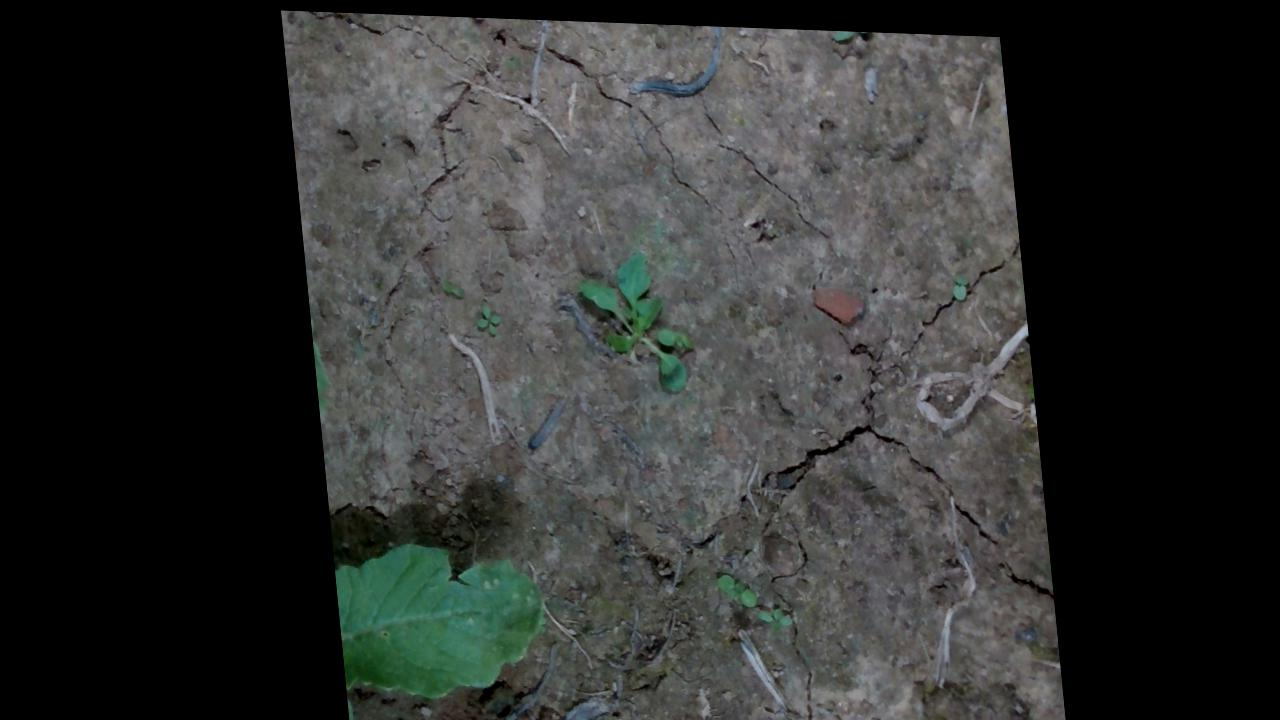weed: (746, 596, 785, 622)
